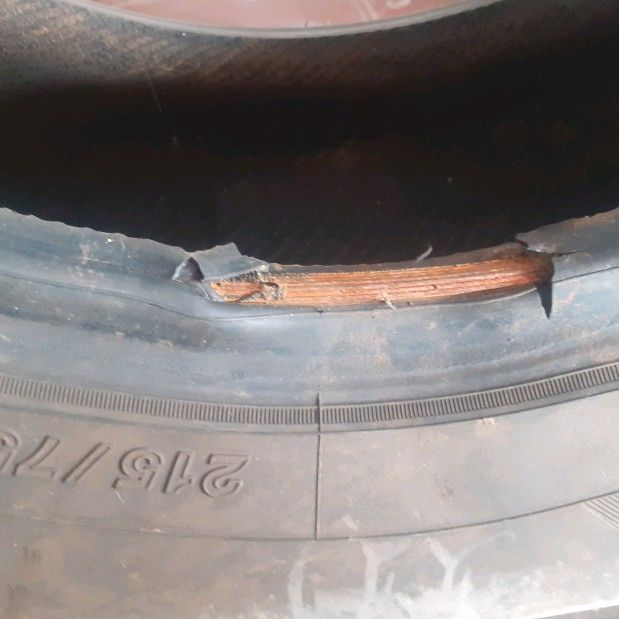bead_damage: (153, 203, 618, 367)
